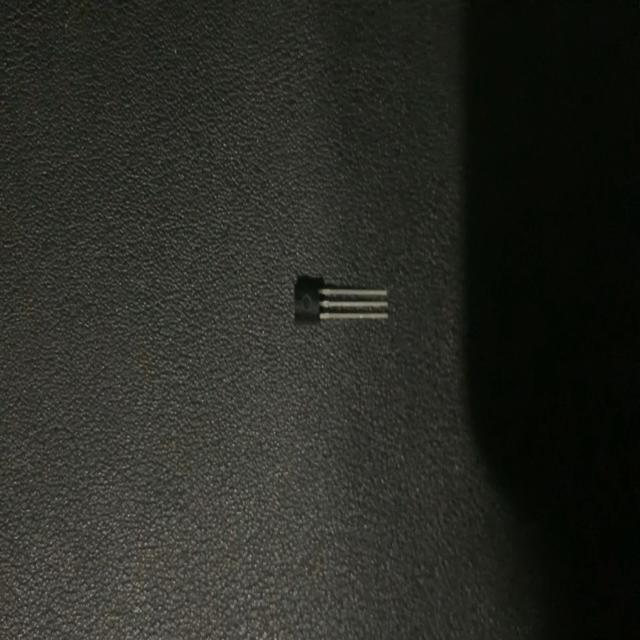BJT: (289, 273, 392, 332)
